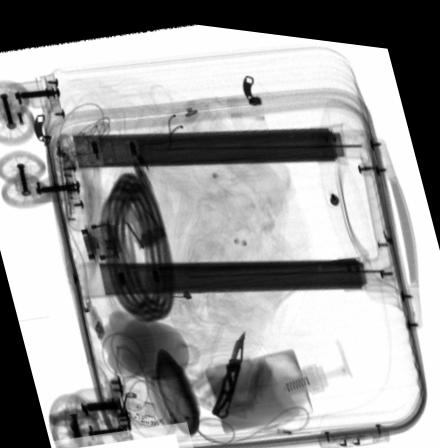Knife: (210, 323, 244, 413)
